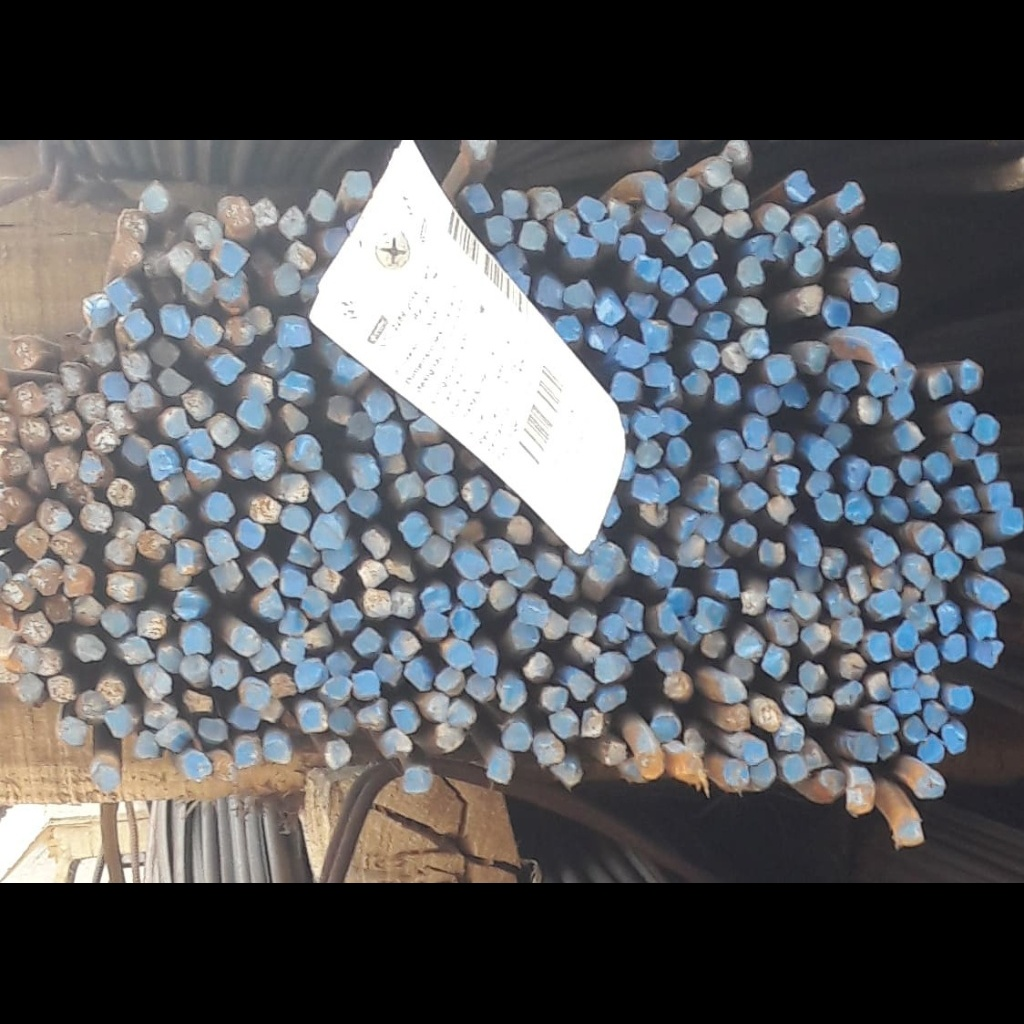dipstick: (14, 522, 49, 562), (36, 498, 74, 534), (45, 445, 80, 484), (397, 511, 433, 547), (287, 435, 324, 470), (29, 558, 64, 595), (1, 573, 36, 610), (148, 504, 187, 537), (51, 529, 87, 564), (104, 279, 141, 313), (274, 315, 312, 348), (215, 242, 250, 276), (527, 186, 562, 219), (82, 294, 118, 326), (735, 627, 767, 663), (174, 588, 211, 619), (186, 458, 220, 491), (294, 658, 327, 692), (639, 320, 673, 353), (203, 529, 238, 561), (160, 303, 191, 339), (10, 382, 46, 413), (239, 677, 272, 710), (118, 209, 152, 241), (62, 564, 96, 596), (179, 621, 211, 655), (330, 599, 362, 633), (362, 390, 396, 422), (149, 444, 180, 479), (346, 488, 381, 519), (425, 475, 460, 506), (462, 475, 492, 511), (9, 336, 41, 369), (19, 613, 52, 645), (157, 720, 191, 751), (406, 656, 437, 690), (790, 213, 821, 247), (250, 637, 280, 672), (761, 644, 791, 679), (903, 554, 933, 589), (452, 552, 489, 580), (314, 479, 346, 511), (765, 577, 797, 609), (121, 310, 154, 341), (104, 537, 135, 570), (70, 595, 103, 626), (180, 656, 213, 687), (251, 447, 282, 480), (390, 701, 421, 734), (505, 556, 538, 587), (319, 676, 353, 706), (379, 730, 413, 760), (536, 276, 566, 310), (933, 547, 963, 581), (220, 195, 252, 226), (237, 399, 269, 430), (18, 417, 50, 448), (12, 673, 43, 705), (373, 654, 404, 686), (352, 627, 384, 658), (617, 335, 648, 367), (819, 390, 851, 421), (211, 415, 241, 448), (79, 502, 112, 532), (287, 536, 320, 566), (421, 534, 451, 567), (625, 291, 658, 321), (695, 273, 728, 303), (903, 602, 936, 632), (144, 702, 178, 731), (247, 494, 281, 523), (248, 557, 279, 588), (721, 342, 752, 373), (263, 344, 295, 374), (131, 384, 163, 414), (52, 411, 84, 441), (389, 631, 421, 661), (497, 681, 527, 713), (548, 708, 580, 738), (563, 279, 595, 309), (462, 183, 494, 213), (785, 170, 815, 202), (6, 643, 39, 672), (702, 158, 735, 187), (837, 180, 865, 214), (213, 353, 243, 384), (89, 421, 120, 451), (59, 362, 89, 393), (113, 510, 144, 540), (139, 529, 170, 559), (76, 692, 107, 722), (300, 588, 330, 619), (279, 473, 310, 503), (327, 396, 358, 426), (374, 425, 405, 455), (424, 443, 454, 474), (523, 652, 554, 682), (596, 682, 627, 712), (664, 587, 695, 617), (587, 323, 618, 353), (800, 624, 831, 654), (808, 440, 839, 470), (829, 360, 859, 391), (923, 452, 953, 483), (176, 540, 205, 572), (737, 482, 769, 511), (735, 297, 767, 326), (73, 633, 106, 661), (209, 561, 242, 589), (976, 581, 1009, 609), (658, 408, 692, 435), (286, 372, 316, 402), (41, 383, 71, 413), (281, 504, 311, 534), (395, 472, 425, 502), (519, 595, 549, 625), (662, 225, 692, 255), (736, 255, 766, 285), (852, 225, 882, 255), (193, 316, 222, 347), (124, 435, 153, 466), (311, 521, 342, 550), (362, 529, 391, 560), (357, 560, 388, 589), (501, 723, 532, 752), (740, 328, 769, 359), (676, 536, 705, 567), (915, 523, 944, 554), (434, 668, 466, 696), (489, 579, 517, 611), (713, 374, 741, 406), (110, 238, 143, 265), (553, 209, 580, 242), (870, 590, 903, 617), (676, 749, 702, 783), (205, 492, 234, 522), (211, 659, 240, 689), (183, 752, 213, 781), (263, 733, 292, 763), (237, 519, 266, 549), (363, 589, 392, 619), (467, 673, 497, 702), (451, 609, 480, 639), (511, 619, 540, 649), (568, 608, 597, 638), (626, 632, 655, 662), (663, 672, 693, 701), (656, 644, 685, 674), (611, 371, 640, 401), (519, 221, 548, 251), (660, 267, 689, 297), (870, 241, 899, 271), (893, 421, 922, 451), (971, 415, 1000, 445), (224, 318, 255, 346), (78, 394, 109, 422), (234, 737, 262, 768), (691, 341, 719, 372), (687, 241, 718, 269), (799, 661, 827, 692), (949, 401, 977, 432), (551, 758, 583, 785), (594, 655, 626, 682), (749, 757, 776, 789), (822, 548, 849, 580), (941, 723, 968, 755), (697, 477, 721, 513), (196, 718, 229, 744), (640, 209, 673, 235), (916, 481, 942, 514), (652, 555, 677, 589), (185, 262, 214, 291), (150, 339, 179, 368), (279, 607, 308, 636), (328, 707, 357, 736), (457, 579, 486, 608), (489, 543, 518, 572), (766, 496, 795, 525), (485, 216, 514, 245), (815, 492, 844, 521), (140, 185, 170, 213), (100, 372, 130, 400), (280, 402, 310, 430), (87, 337, 117, 365), (548, 566, 576, 596), (768, 354, 796, 384), (668, 298, 698, 326), (693, 206, 723, 234), (280, 206, 307, 237), (80, 450, 107, 481), (101, 609, 132, 636), (922, 702, 949, 733), (696, 599, 723, 630), (247, 372, 274, 403), (620, 599, 645, 632), (189, 429, 217, 458), (107, 478, 135, 507), (232, 627, 260, 656), (106, 708, 134, 737), (258, 591, 286, 620), (351, 461, 380, 489), (491, 489, 520, 517), (652, 716, 681, 744), (723, 211, 752, 239), (794, 247, 822, 276), (823, 298, 851, 327), (845, 786, 874, 814), (887, 391, 915, 420), (310, 190, 337, 220), (274, 264, 301, 294), (300, 703, 327, 733), (353, 670, 380, 700), (701, 632, 731, 659), (790, 591, 820, 618), (976, 638, 1003, 668), (1, 449, 32, 475), (229, 704, 260, 730), (657, 602, 683, 633), (501, 189, 527, 220), (867, 632, 893, 663), (847, 492, 873, 523), (868, 465, 894, 496), (158, 368, 190, 393), (160, 564, 192, 589), (595, 300, 627, 325), (892, 820, 924, 845), (804, 737, 829, 769), (336, 353, 369, 377), (163, 408, 191, 436), (138, 611, 166, 639), (312, 567, 340, 595), (535, 553, 563, 581), (602, 614, 630, 642), (758, 539, 786, 567), (807, 696, 835, 724), (594, 544, 622, 572), (445, 641, 474, 668), (632, 545, 659, 574), (632, 474, 661, 501), (634, 439, 661, 468), (742, 419, 769, 448), (643, 182, 670, 211), (761, 207, 790, 234), (766, 431, 793, 460), (805, 469, 834, 496), (941, 633, 968, 662), (980, 548, 1007, 577), (183, 390, 212, 417), (123, 637, 153, 663), (936, 603, 962, 633), (402, 767, 433, 792), (898, 454, 923, 485), (566, 233, 598, 257), (289, 243, 316, 271), (280, 570, 308, 597), (723, 759, 750, 787), (782, 687, 809, 715), (755, 387, 782, 415), (872, 283, 899, 311), (828, 220, 849, 256), (970, 611, 998, 638), (986, 482, 1013, 510), (36, 646, 62, 675), (96, 679, 125, 705), (325, 740, 351, 769), (349, 411, 375, 440), (854, 733, 880, 762), (857, 395, 883, 424), (47, 595, 72, 625), (420, 587, 450, 612), (850, 277, 880, 302), (916, 772, 946, 797), (915, 643, 940, 673), (182, 690, 213, 714), (544, 609, 568, 640), (49, 674, 76, 701), (449, 702, 476, 729), (730, 519, 757, 546), (705, 312, 732, 339), (872, 538, 899, 565), (868, 369, 895, 396), (472, 648, 498, 676), (578, 196, 606, 222), (819, 769, 845, 797), (870, 709, 899, 734), (868, 672, 893, 701), (508, 515, 532, 545), (680, 616, 703, 647), (959, 360, 981, 392), (871, 567, 903, 589), (327, 651, 354, 677), (487, 758, 514, 784), (391, 592, 417, 619), (638, 753, 665, 779), (555, 315, 582, 341), (618, 234, 645, 260), (635, 255, 661, 282), (675, 178, 702, 204), (840, 653, 866, 680), (824, 424, 851, 450), (890, 663, 917, 689), (345, 171, 373, 196), (229, 451, 254, 479), (540, 686, 568, 711), (568, 676, 596, 701), (783, 755, 808, 783), (666, 437, 691, 465), (682, 370, 710, 395), (715, 436, 743, 461), (699, 513, 724, 541), (955, 531, 980, 559), (882, 495, 907, 523), (927, 370, 952, 398), (874, 342, 902, 367), (324, 226, 348, 255), (269, 673, 298, 697), (582, 707, 606, 736), (586, 565, 615, 589), (758, 704, 782, 733), (774, 466, 798, 495), (977, 453, 999, 484), (918, 736, 944, 762), (157, 645, 182, 672), (91, 765, 118, 790), (135, 730, 160, 757), (422, 612, 449, 637), (723, 185, 750, 210), (715, 569, 739, 597), (893, 689, 921, 713), (956, 486, 980, 514), (949, 433, 977, 457), (954, 484, 978, 512), (952, 482, 976, 510), (847, 459, 869, 489), (145, 672, 171, 697), (280, 639, 305, 665), (722, 678, 747, 704), (62, 717, 86, 744), (645, 364, 672, 388), (902, 715, 926, 742), (537, 742, 565, 765), (590, 220, 618, 243), (834, 681, 862, 704), (726, 703, 748, 732), (1001, 506, 1022, 536), (247, 307, 273, 331), (742, 741, 769, 764), (780, 385, 808, 407), (805, 345, 827, 373), (799, 286, 821, 314), (850, 569, 869, 601), (949, 686, 974, 710), (253, 198, 276, 224), (777, 729, 803, 752), (636, 415, 663, 437), (829, 595, 856, 617), (799, 540, 821, 566), (652, 141, 682, 160), (678, 510, 697, 540), (718, 465, 742, 488), (605, 741, 627, 766), (914, 675, 939, 697), (840, 619, 864, 641), (641, 505, 668, 524), (606, 497, 622, 526), (685, 730, 704, 753), (661, 478, 679, 501), (924, 582, 943, 603)
